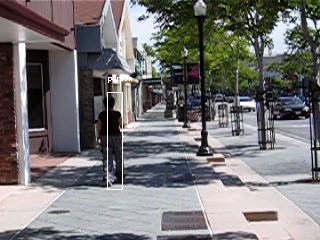person: (97, 95, 128, 189), (96, 95, 127, 189), (98, 95, 129, 189), (97, 94, 128, 188), (97, 96, 128, 190)
target_negative: (1, 198, 279, 229), (233, 28, 302, 138), (262, 27, 303, 186), (263, 27, 283, 123), (290, 185, 318, 209), (191, 235, 265, 237)
